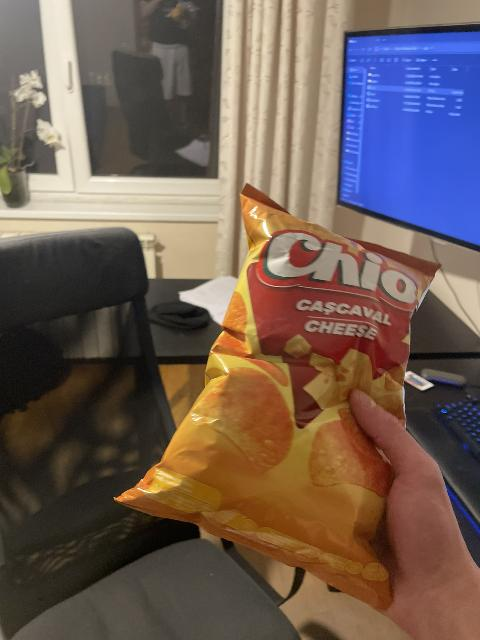Chio Cascaval 125g: (112, 183, 441, 614)
